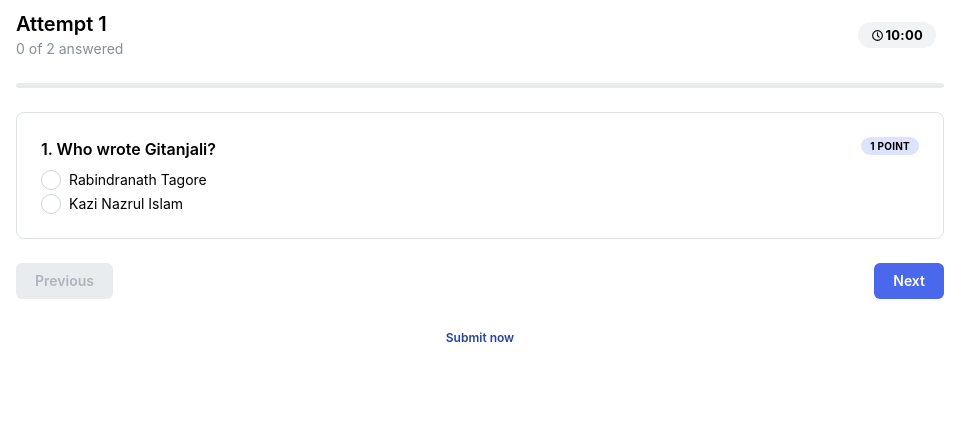
QuizRunnerRoute › surfaces a refused save rather than losing the answer quietly
The width and height of the screenshot is (961, 439).
Step 1. Click the radio button labelled "Rabindranath Tagore" → x=51, y=180, box x1=41 y1=170 x2=61 y2=190
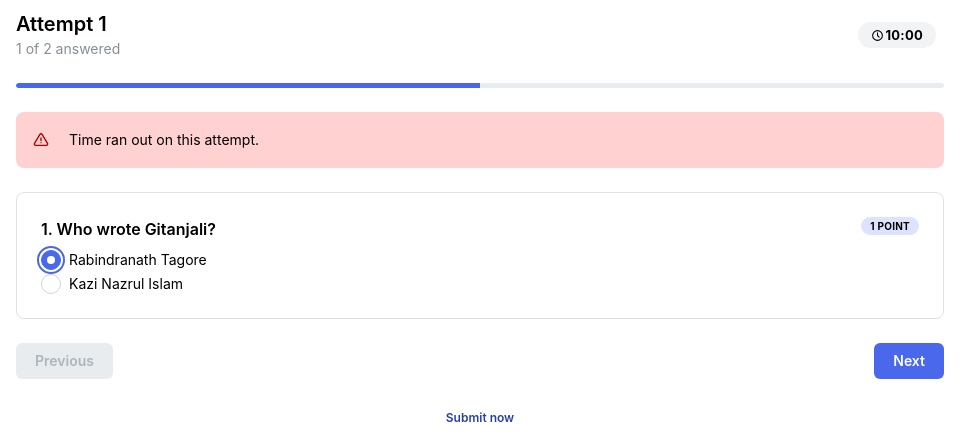
Now the message shows "Time ran out", box x1=69 y1=131 x2=259 y2=148
